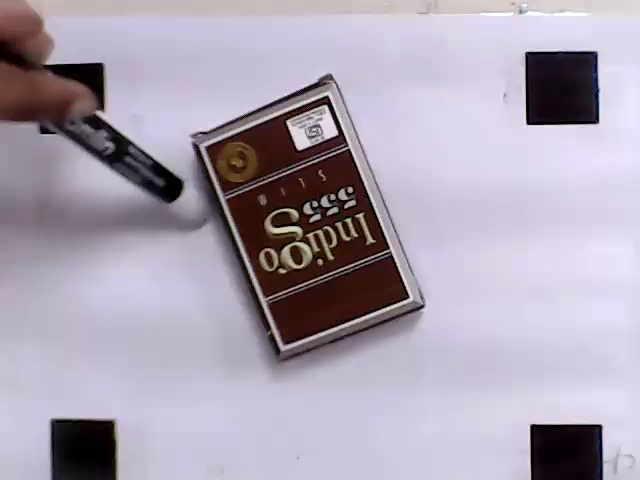BEX: (201, 94, 413, 347)
